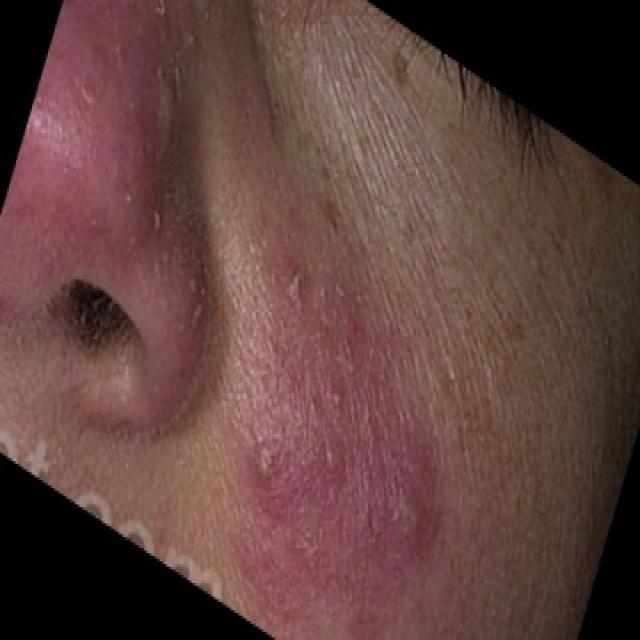Rosacea: (263, 308, 444, 608)
